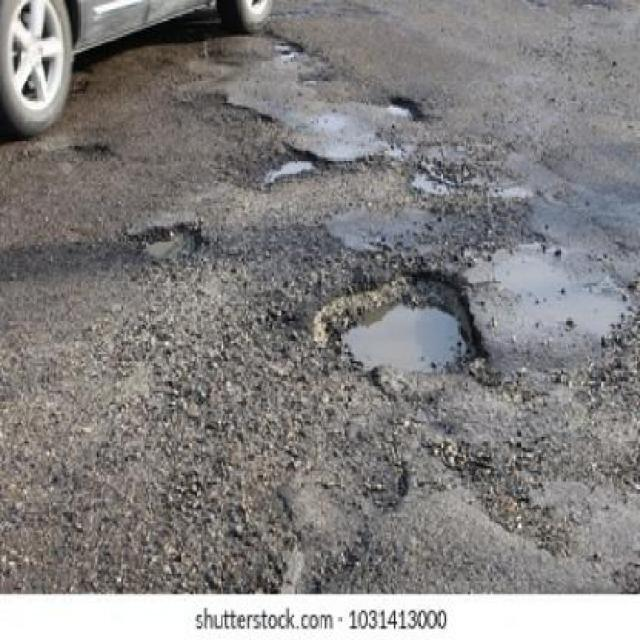Pothole: (310, 270, 501, 397)
